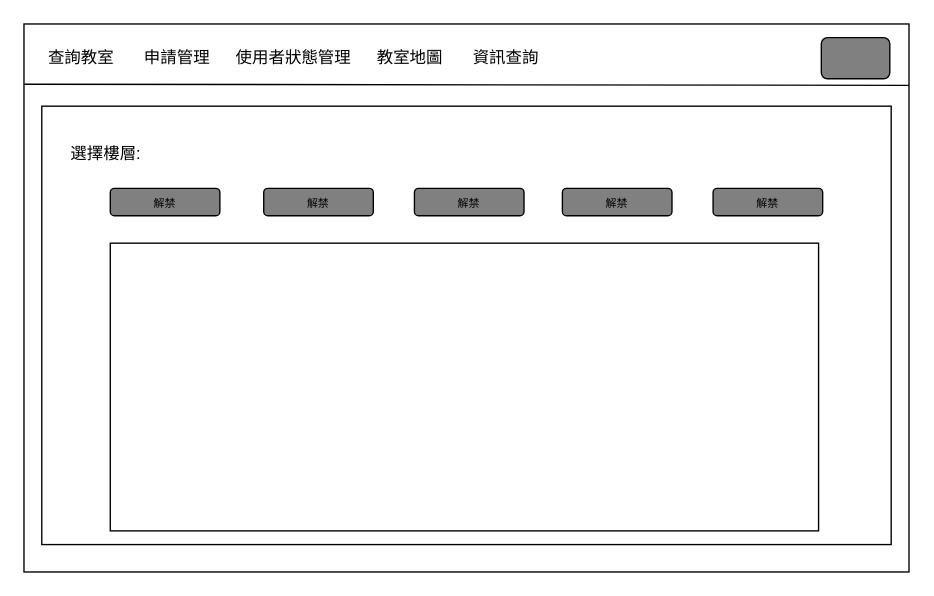
Some shapes in this 934 by 596 pixel diagram are drawn without their labels. Each missing label, with the centre of its shape:
"平面圖" belongs at (x=464, y=386).
"登出" belongs at (x=855, y=57).
